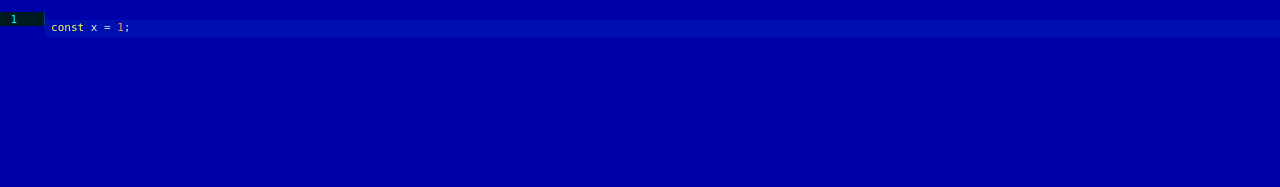
Test: CodeEditor › la edición IA propone un diff y lo aplica al aceptar
This screenshot has width=1280, height=187.
Press k in the field labelled "const x = 1;", box [45, 20, 1279, 36]
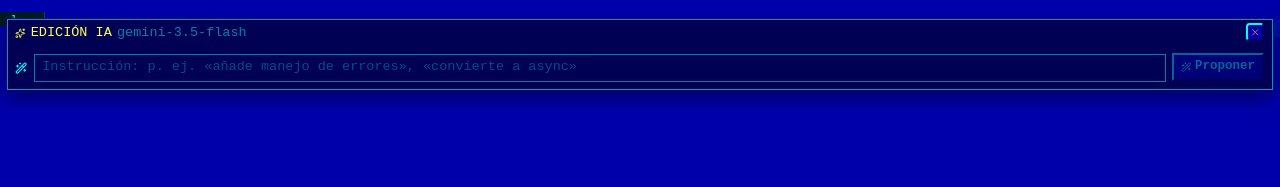
Replace the text in the field with test id "editor-inline-input" with "cambia a 2" at point(600, 68), box [34, 54, 1166, 82]
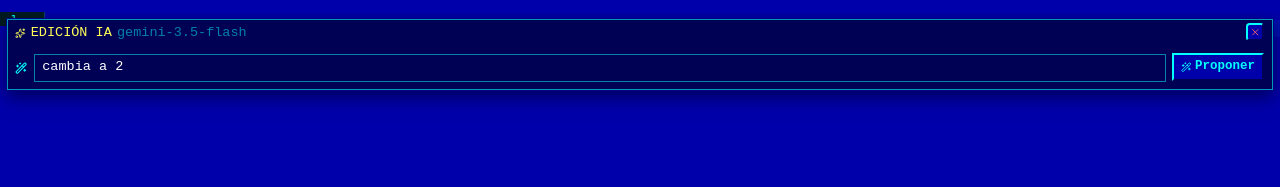
Press Enter in the field with test id "editor-inline-input", box [34, 54, 1166, 82]
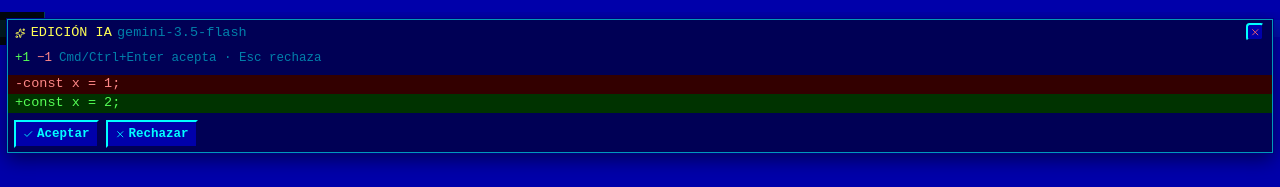
expect the element with test id "editor-inline-diff" is shown: met, box [8, 72, 1272, 117]
Press Enter in the element with test id "editor-inline-ai"
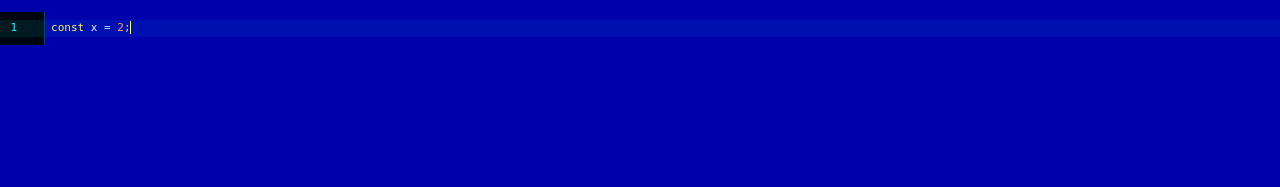
expect the text box labelled "const x = 2;" is shown: met, box [45, 20, 1279, 36]
expect the element with test id "editor-inline-ai" is gone: met
